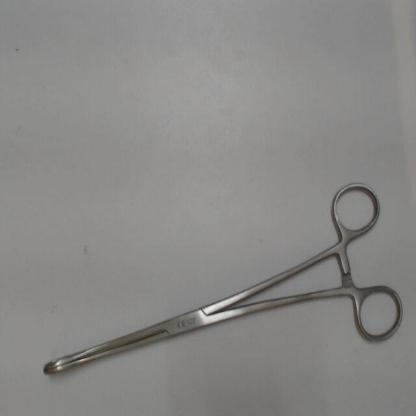Sponge Forceps: (33, 175, 408, 385)
